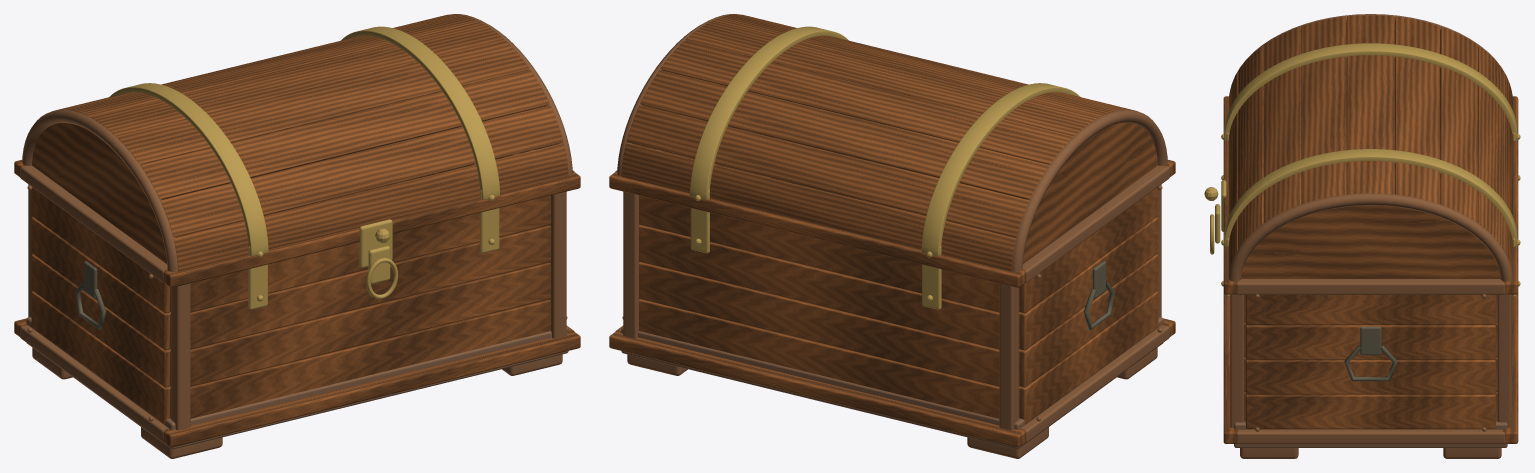
The model's file is time-capsule.glb.
3 views of the same model, side by side, from view 1: azimuth 30°, elevation 25°; view 2: azimuth 150°, elevation 25°; view 3: azimuth 270°, elevation 25° (orthographic). The views are drawn at different scales.
Parts seen in each view (by area): view 1: Body_Attic_warm_oak, Lid_Attic_warm_oak, Body_Dark_worn_oak_edges, Lid_Aged_honey_brass, Body_Interior_cedar, Lid_Dark_worn_oak_edges, Body_Aged_honey_brass, Body_Patinated_side_handles; view 2: Body_Attic_warm_oak, Lid_Attic_warm_oak, Body_Dark_worn_oak_edges, Lid_Aged_honey_brass, Body_Interior_cedar, Lid_Dark_worn_oak_edges, Body_Aged_honey_brass, Body_Patinated_side_handles; view 3: Lid_Attic_warm_oak, Body_Attic_warm_oak, Body_Dark_worn_oak_edges, Lid_Aged_honey_brass, Lid_Dark_worn_oak_edges, Body_Interior_cedar, Body_Patinated_side_handles, Body_Aged_honey_brass.
Boxes of the visible parts, x1=… form: Body_Attic_warm_oak: x1=14, y1=153, x2=580, y2=447; Lid_Attic_warm_oak: x1=32, y1=14, x2=568, y2=271; Body_Dark_worn_oak_edges: x1=20, y1=150, x2=574, y2=458; Lid_Aged_honey_brass: x1=109, y1=26, x2=499, y2=256; Body_Interior_cedar: x1=26, y1=317, x2=568, y2=449; Lid_Dark_worn_oak_edges: x1=22, y1=14, x2=572, y2=271; Body_Aged_honey_brass: x1=248, y1=189, x2=499, y2=309; Body_Patinated_side_handles: x1=75, y1=261, x2=105, y2=330; Body_Attic_warm_oak: x1=609, y1=153, x2=1175, y2=447; Lid_Attic_warm_oak: x1=621, y1=14, x2=1157, y2=271; Body_Dark_worn_oak_edges: x1=615, y1=150, x2=1169, y2=458; Lid_Aged_honey_brass: x1=690, y1=26, x2=1080, y2=256; Body_Interior_cedar: x1=621, y1=317, x2=1163, y2=449; Lid_Dark_worn_oak_edges: x1=617, y1=14, x2=1167, y2=271; Body_Aged_honey_brass: x1=690, y1=189, x2=941, y2=309; Body_Patinated_side_handles: x1=1084, y1=261, x2=1114, y2=330; Lid_Attic_warm_oak: x1=1228, y1=15, x2=1512, y2=278; Body_Attic_warm_oak: x1=1223, y1=96, x2=1518, y2=443; Body_Dark_worn_oak_edges: x1=1230, y1=279, x2=1511, y2=458; Lid_Aged_honey_brass: x1=1224, y1=43, x2=1517, y2=246; Lid_Dark_worn_oak_edges: x1=1229, y1=14, x2=1512, y2=281; Body_Interior_cedar: x1=1234, y1=421, x2=1507, y2=447; Body_Patinated_side_handles: x1=1344, y1=326, x2=1397, y2=381; Body_Aged_honey_brass: x1=1204, y1=132, x2=1520, y2=297.
Size of the model in its own units: 0.5784 by 0.382 by 0.4046.
Materials: 5 (1 with a texture image).
